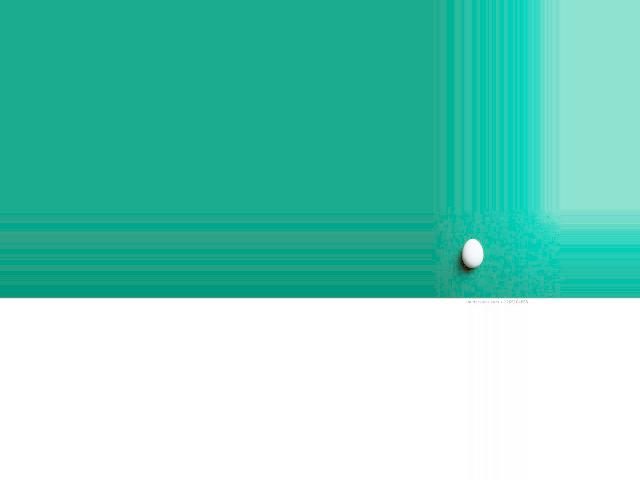egg: (463, 239, 484, 268)
